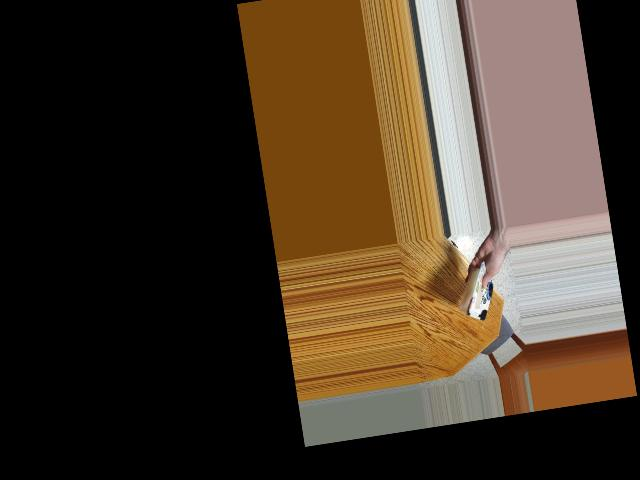cheese: (455, 267, 506, 320)
